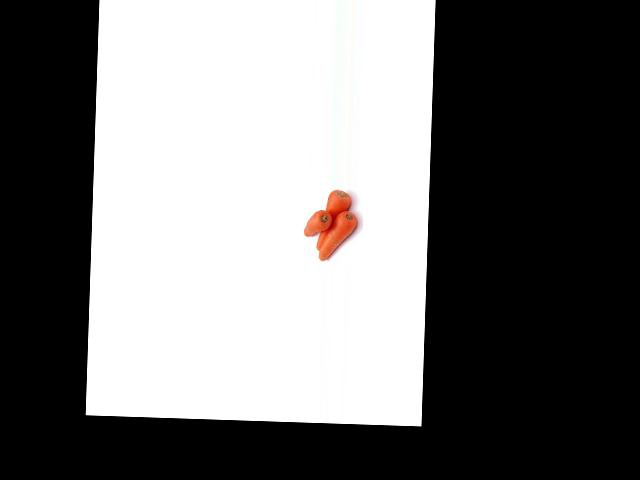carrot: (316, 190, 353, 253)
